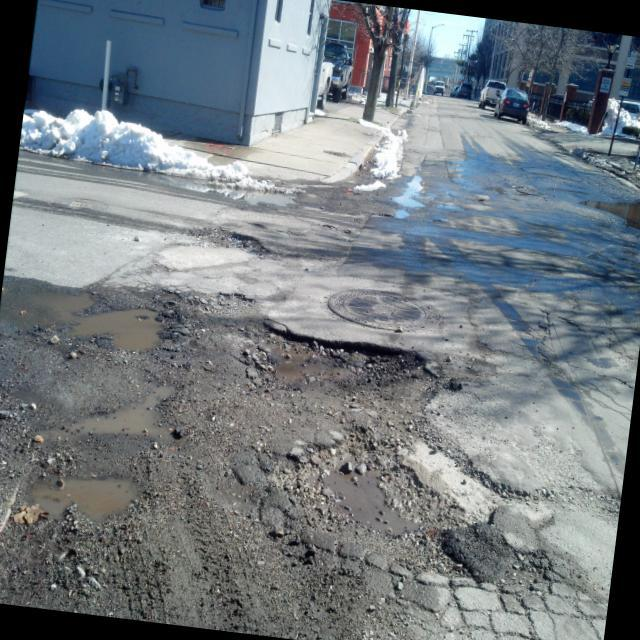Pothole: (236, 312, 434, 414), (294, 431, 456, 554), (48, 356, 188, 454), (18, 453, 152, 545), (66, 287, 176, 363), (197, 218, 270, 266)
